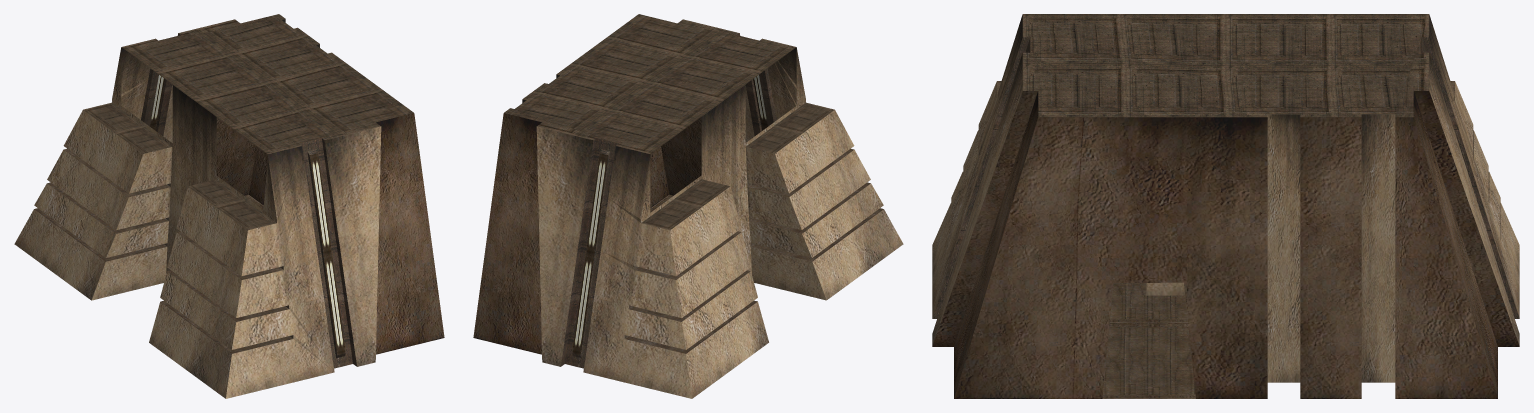
File: thm_tato_fort_tusken_r22_mesh_r22.fbx
3 views of the same model, side by side, from view 1: azimuth 30°, elevation 25°; view 2: azimuth 150°, elevation 25°; view 3: azimuth 270°, elevation 25° (orthographic). The views are drawn at different scales.
Parts seen in each view (by area): view 1: mesh_node; view 2: mesh_node; view 3: mesh_node.
Part boxes in pixels (x1=…): mesh_node: x1=14, y1=14, x2=444, y2=398; mesh_node: x1=473, y1=14, x2=903, y2=398; mesh_node: x1=932, y1=14, x2=1519, y2=398.
Bounding box in the file's own units: 8.05 × 6.88 × 13.01.
